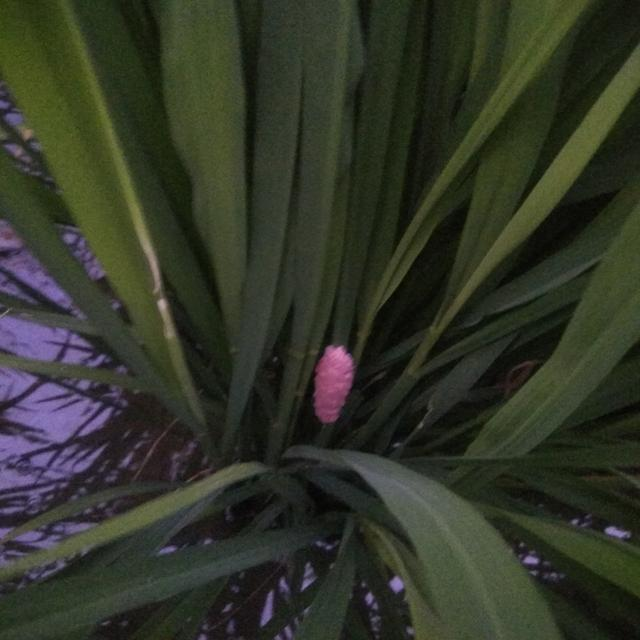Leaf blast: (303, 312, 390, 433)
